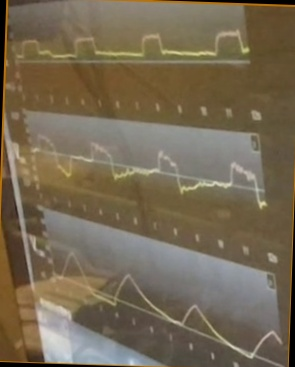Accumulation Flow: (32, 130, 265, 210)
Volume: (55, 249, 282, 359)
